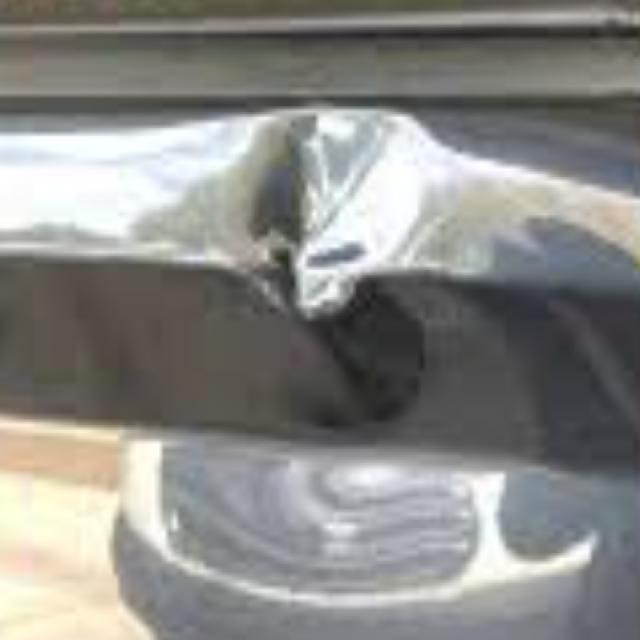dents: (185, 96, 482, 346)
